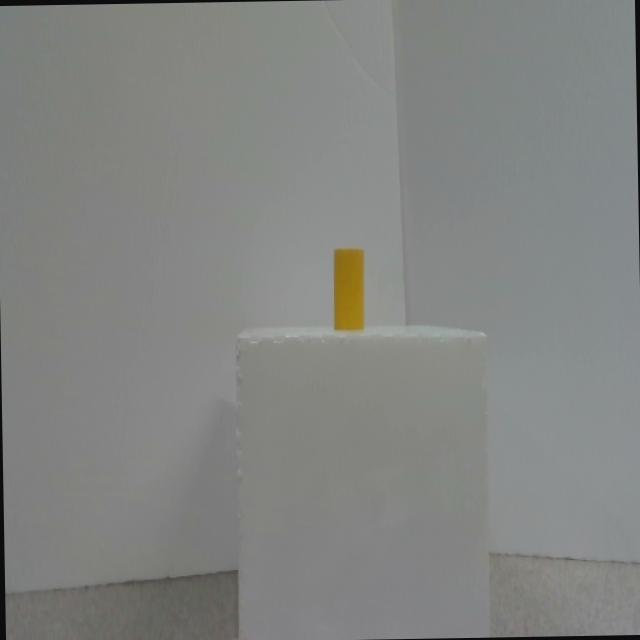yellow_cylinder: (332, 247, 364, 330)
